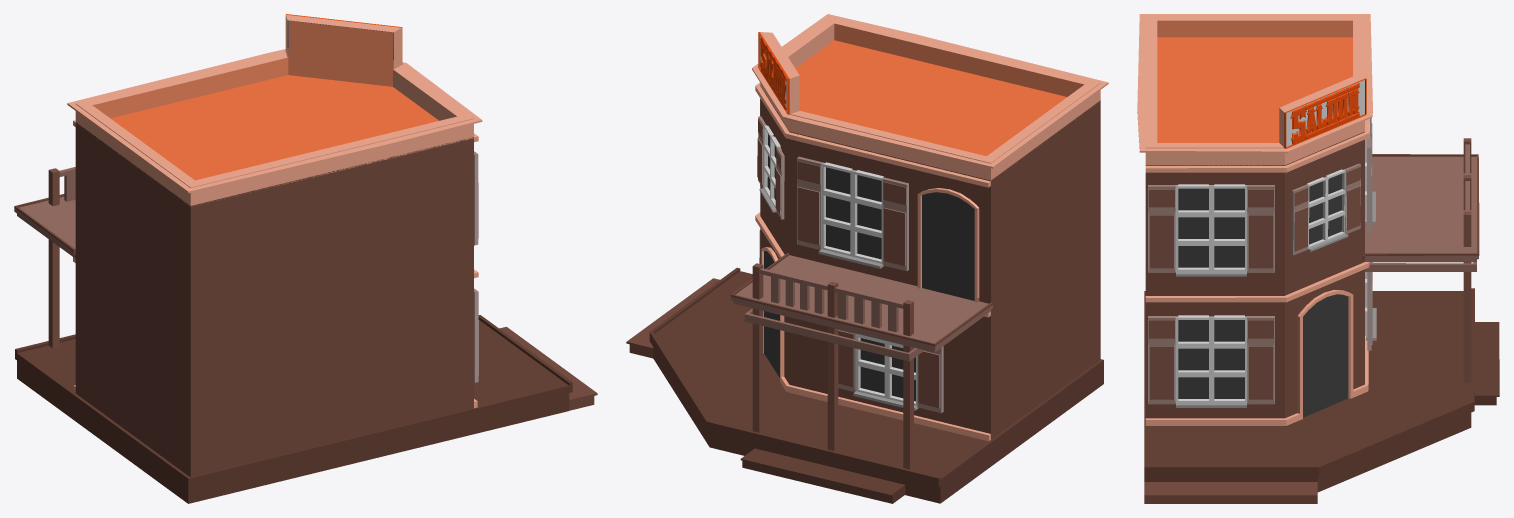
File: Saloon2.fbx
3 renders of one model, left to right at view 1: azimuth 30°, elevation 25°; view 2: azimuth 150°, elevation 25°; view 3: azimuth 270°, elevation 25°, orthographic. The views are drawn at different scales.
Visible parts, largest first — view 1: huis laag 2, Huis laag 1, Huis laag 1.001, platform, huis laag 2.001, paal 3, opstap 1; view 2: Huis laag 1.001, platform, huis laag 2, Huis laag 1, Raam1.002, huis laag 2.001, deur rand.001, Raam1.001, opstap 2, Cube, deur rand, Raam1.004 (+7 smaller); view 3: Huis laag 1.001, platform, huis laag 2, Raam1, Raam1.003, huis laag 2.001, Huis laag 1, deur rand, Raam1.004, opstap 1, Text, opstap 2 (+6 smaller).
Boxes of the visible parts, x1,y1,x2,y2 form: huis laag 2: (14, 122, 473, 342); Huis laag 1: (75, 259, 473, 477); Huis laag 1.001: (67, 14, 482, 206); platform: (15, 315, 572, 503); huis laag 2.001: (14, 196, 75, 258); paal 3: (48, 168, 59, 348); opstap 1: (499, 326, 597, 410); Huis laag 1.001: (752, 14, 1108, 180); platform: (649, 267, 1103, 503); huis laag 2: (731, 93, 1100, 345); Huis laag 1: (760, 228, 1100, 439); Raam1.002: (797, 156, 908, 271); huis laag 2.001: (731, 255, 992, 352); deur rand.001: (917, 188, 979, 302); Raam1.001: (838, 329, 943, 413); opstap 2: (740, 448, 905, 503); Cube: (760, 268, 903, 332); deur rand: (761, 247, 990, 441); Raam1.004: (757, 116, 784, 219); Huis laag 1.001: (1137, 14, 1372, 165); platform: (1144, 288, 1474, 492); huis laag 2: (1145, 132, 1479, 295); Raam1: (1148, 315, 1274, 407); Raam1.003: (1148, 184, 1274, 276); huis laag 2.001: (1365, 156, 1479, 262); Huis laag 1: (1145, 269, 1364, 418); deur rand: (1145, 290, 1368, 425); Raam1.004: (1291, 163, 1360, 255); opstap 1: (1144, 482, 1317, 503); Text: (1290, 83, 1359, 144); opstap 2: (1474, 322, 1499, 405).
Bounding box in the file's own units: 277 × 227 × 222.
